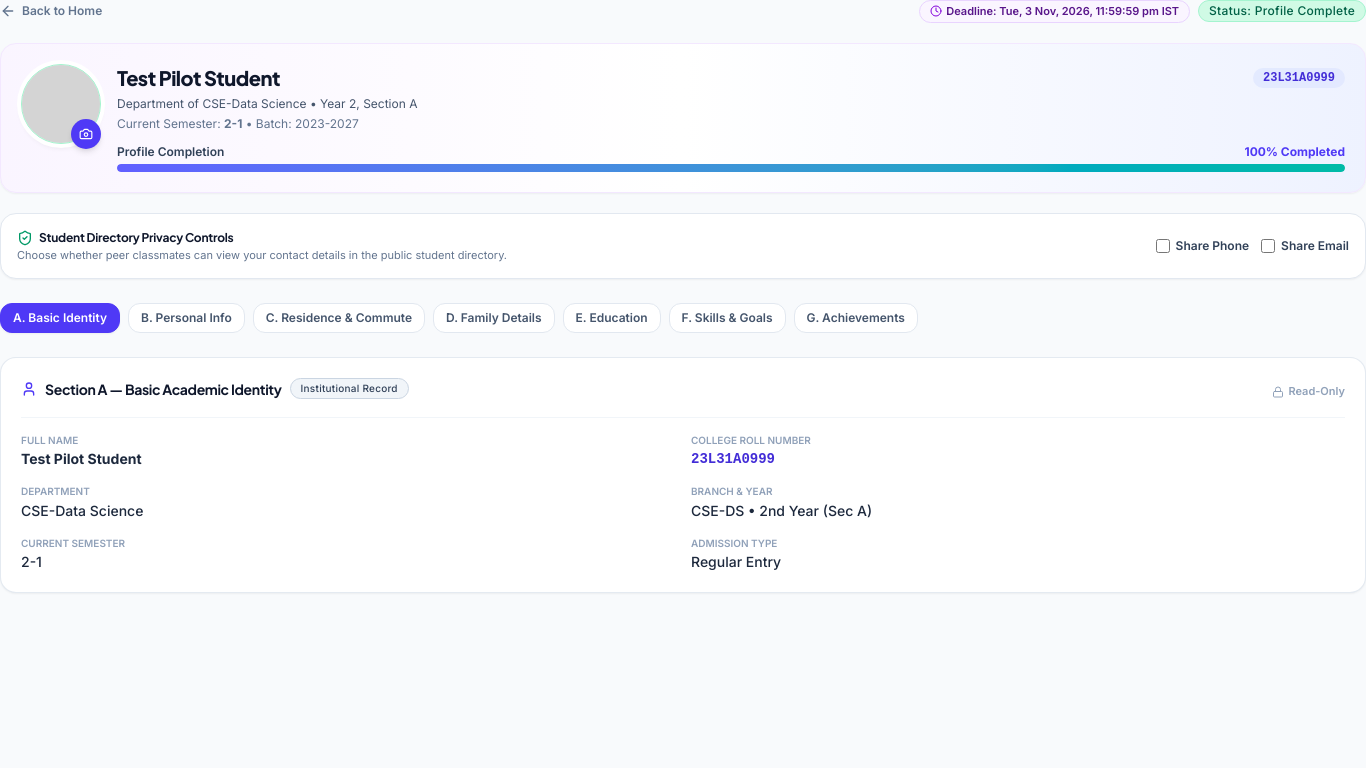
Test case: Mentor Connect — Simplified Student Profile & Sections F and G › 2. Section B displays "Student-Provided" badge and direct "Edit Details" action
Note: Switch to Tab B
Click the tab "B. Personal Info" at (186, 318), box [128,303,245,333]
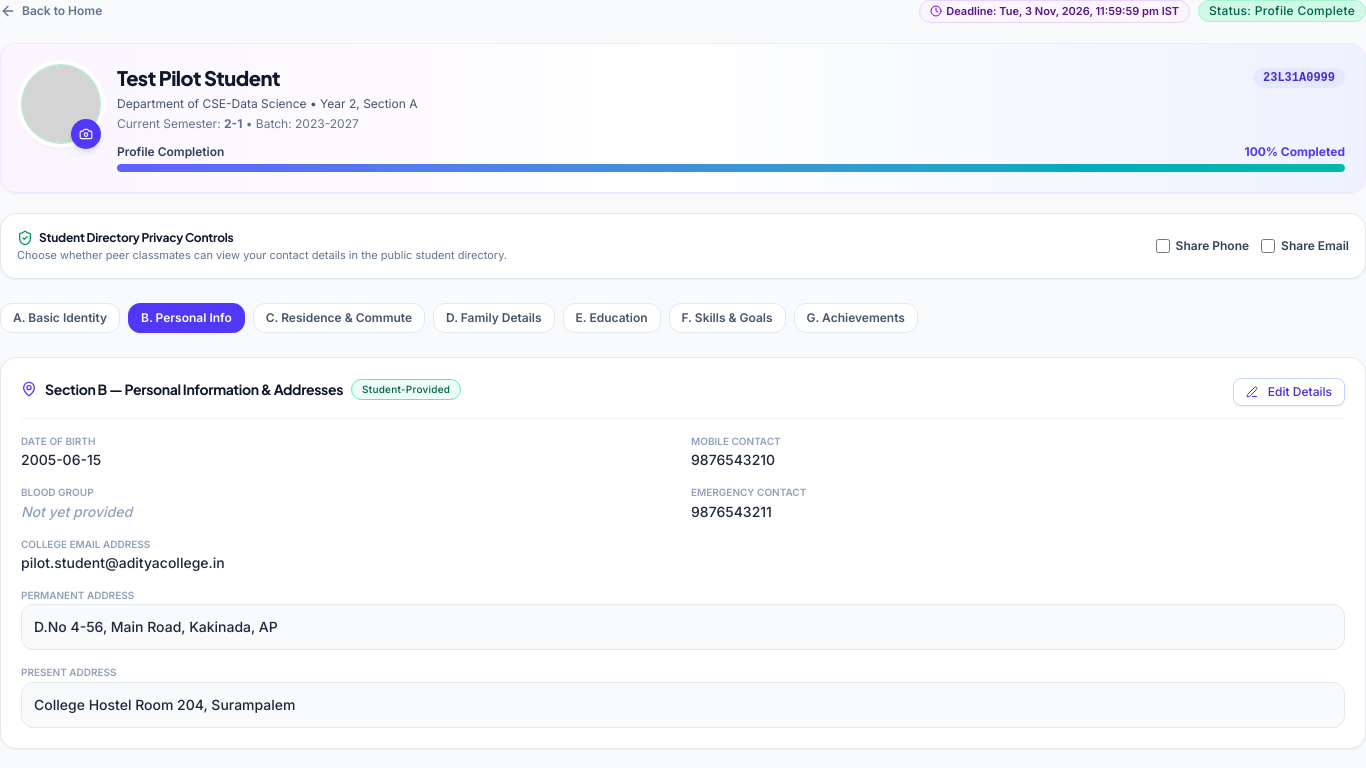
Now the text "Student-Provided" is shown, box [351,379,461,400]
Now the button "Edit Details" is shown
Note: Open edit modal
Click the button "Edit Details" at (1289, 392), box [1233,378,1345,406]
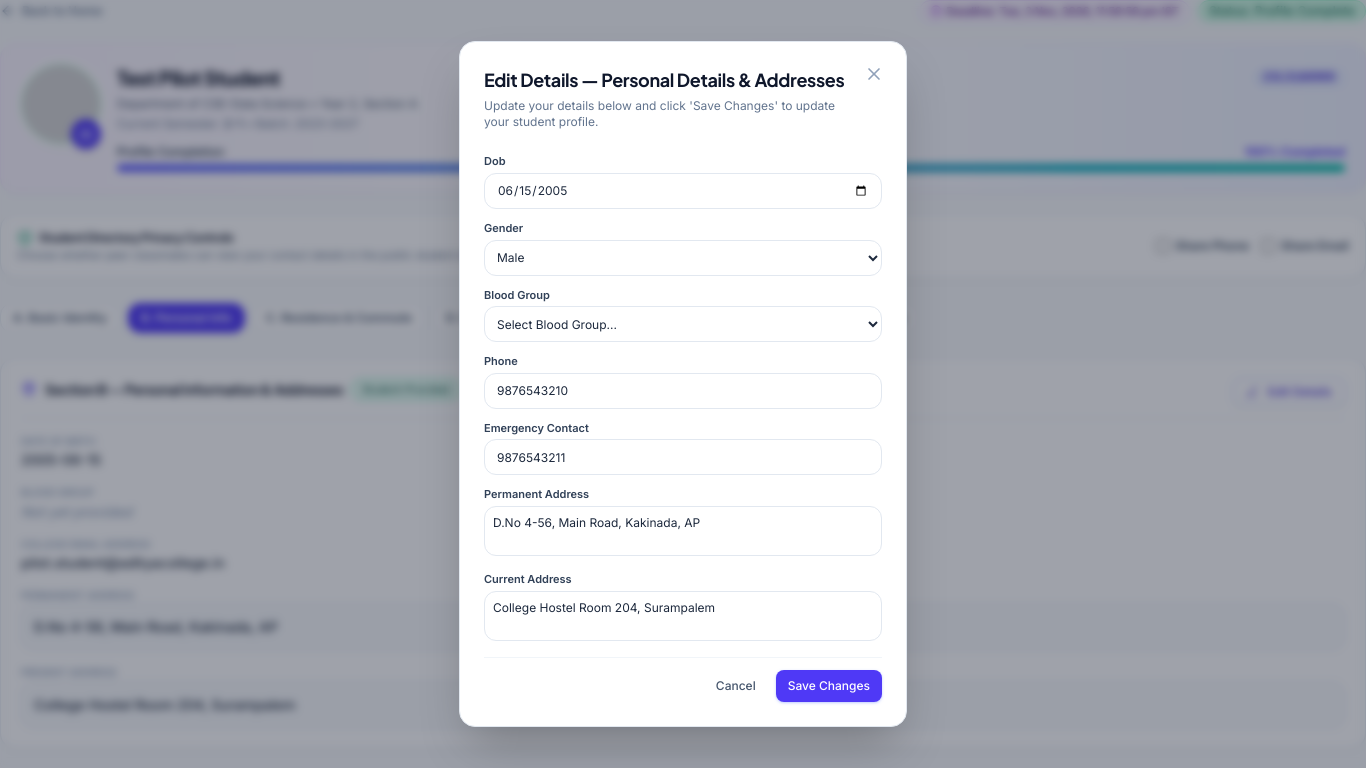
Now the button "Save Changes" is shown, box [776,670,882,702]
